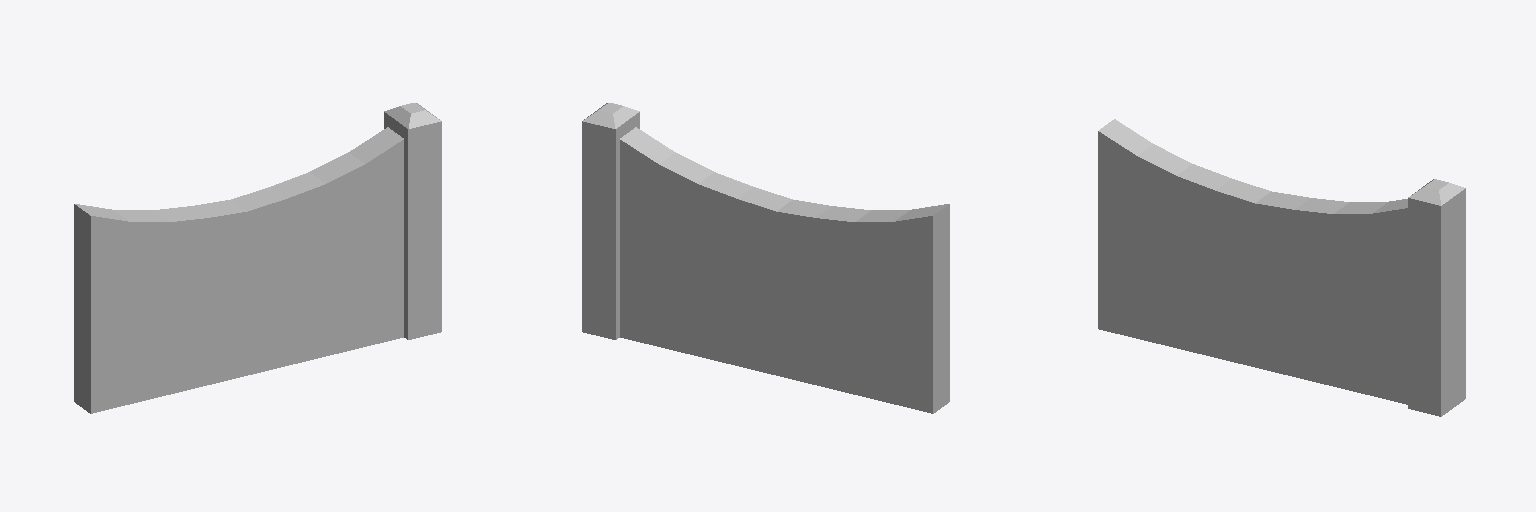
File: wall.obj
3 views of the same model, side by side, from view 1: azimuth 30°, elevation 25°; view 2: azimuth 150°, elevation 25°; view 3: azimuth 330°, elevation 25° (orthographic).
Visible parts, largest first — view 1: Mesh_Cube.001; view 2: Mesh_Cube.001; view 3: Mesh_Cube.001.
Boxes of the visible parts, x1=… form: Mesh_Cube.001: x1=74, y1=103, x2=441, y2=413; Mesh_Cube.001: x1=582, y1=103, x2=949, y2=413; Mesh_Cube.001: x1=1098, y1=119, x2=1465, y2=416.
Bounding box in the file's own units: 6.07 × 3.66 × 0.7424.